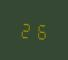six: (33, 19, 46, 40)
two: (19, 18, 32, 39)
